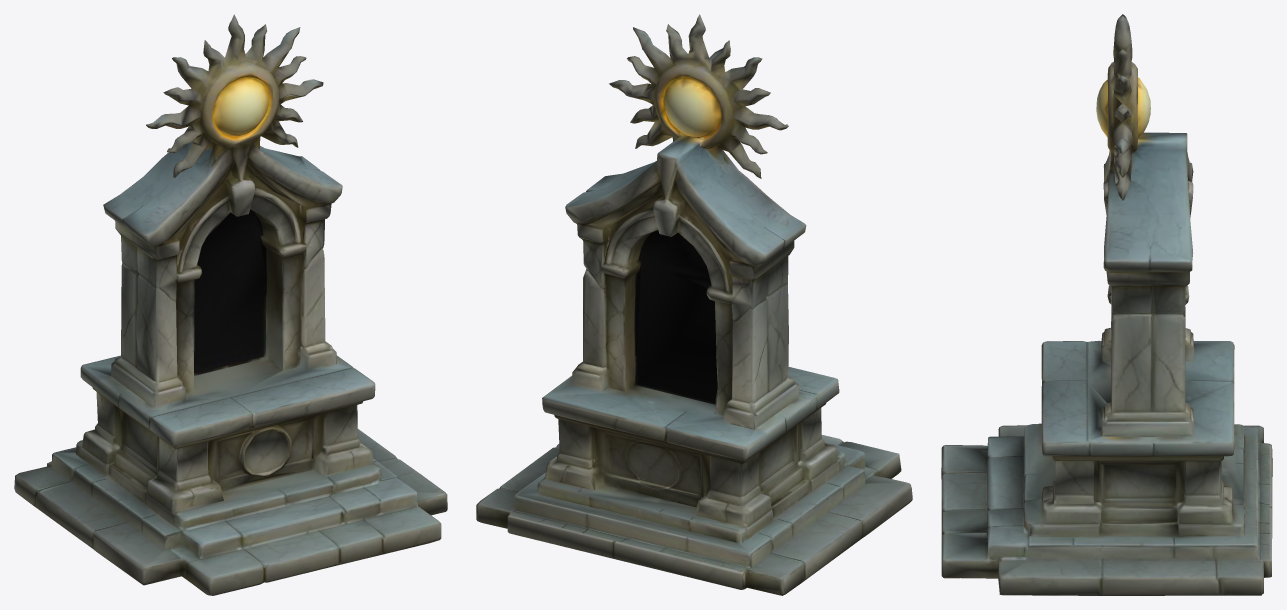
The model's file is SunShrine.opt.glb.
The picture shows the model from 3 angles, left to right: view 1: azimuth 30°, elevation 25°; view 2: azimuth 150°, elevation 25°; view 3: azimuth 270°, elevation 25°; orthographic projection. The views are drawn at different scales.
Parts seen in each view (by area): view 1: node_0; view 2: node_0; view 3: node_0.
Part boxes in pixels (<box>): node_0: <box>14,14,447,595</box>; node_0: <box>476,14,912,595</box>; node_0: <box>941,14,1272,595</box>.
Size of the model in its own units: 0.5976 by 0.9166 by 0.5454.
1 material, 1 textured.
